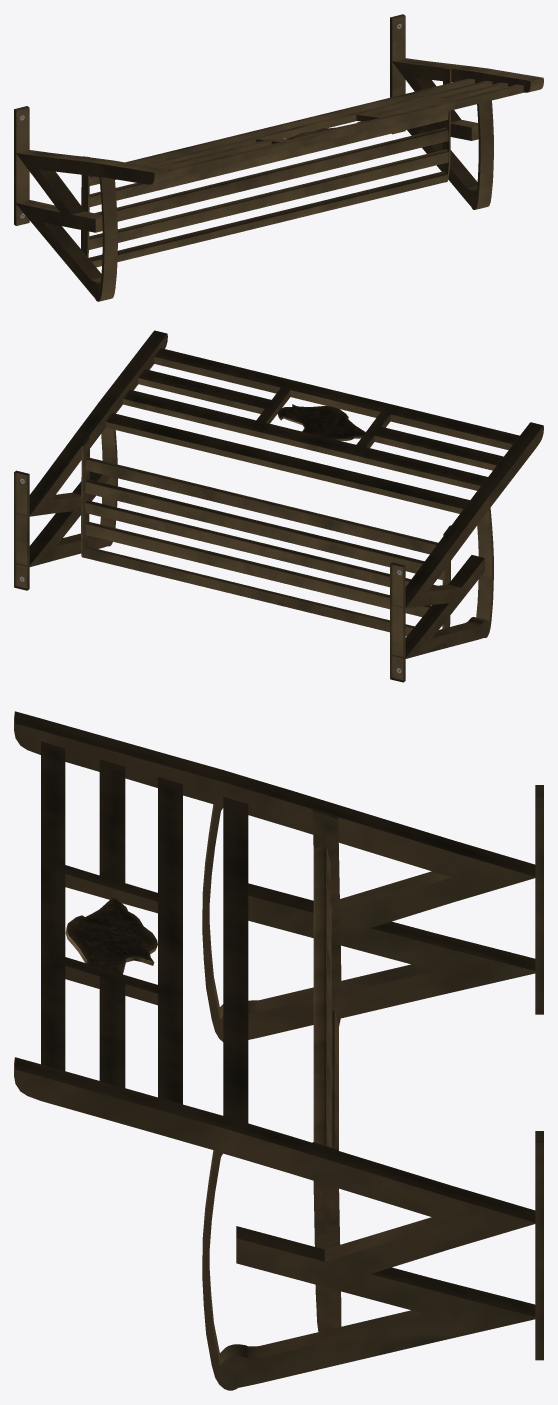
The model's file is Bench.obj.
3 renders of one model, top to bottom at view 1: azimuth 30°, elevation 25°; view 2: azimuth 150°, elevation 25°; view 3: azimuth 270°, elevation 25°, orthographic. The views are drawn at different scales.
Parts seen in each view (by area): view 1: polySurface8; view 2: polySurface8; view 3: polySurface8.
Part boxes in pixels (x1,y1,x2,y2): polySurface8: [14, 14, 543, 301]; polySurface8: [14, 330, 543, 682]; polySurface8: [14, 711, 543, 1390].
Size of the model in its own units: 22.74 by 9.52 by 14.23.
